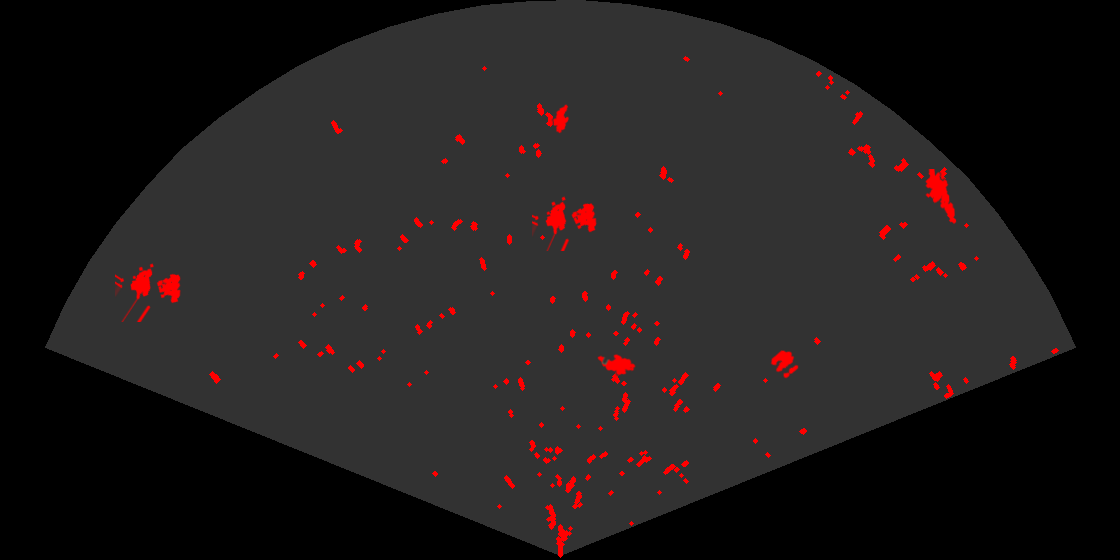AUV: (596, 353, 637, 377), (551, 103, 571, 135)
ball: (769, 349, 800, 380)
cage: (115, 262, 182, 322), (532, 195, 598, 251)
frogman: (924, 169, 958, 225)
